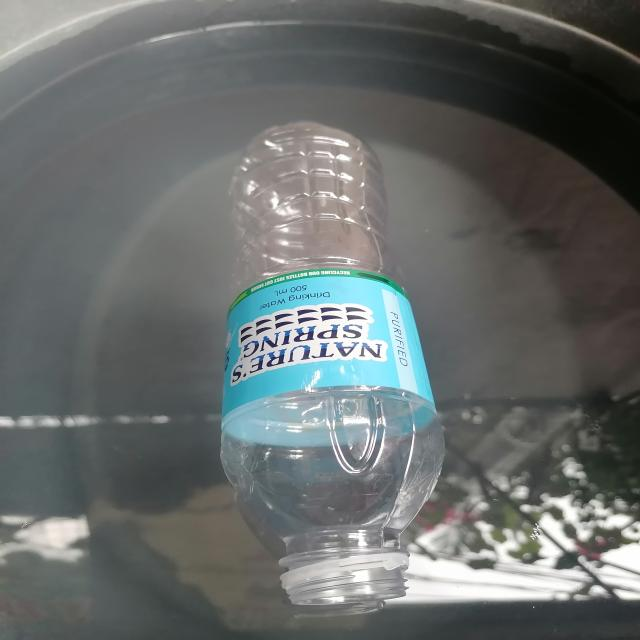Plastic Bottle: (198, 106, 459, 616)
